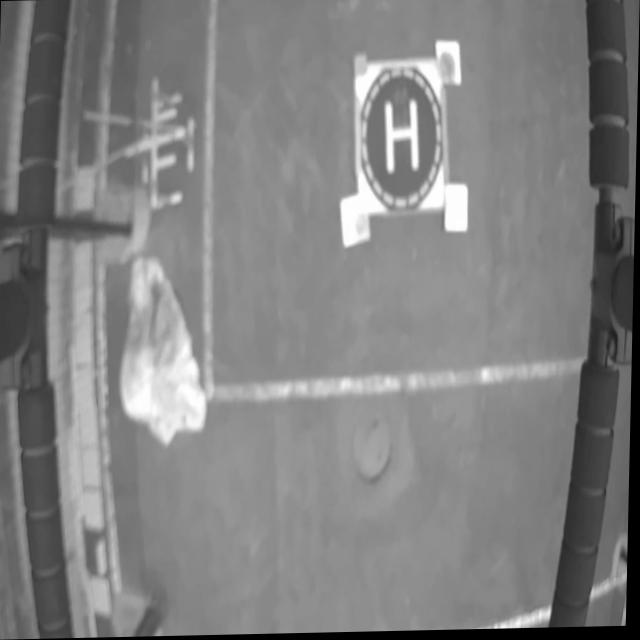Helipad: (383, 98, 419, 176)
